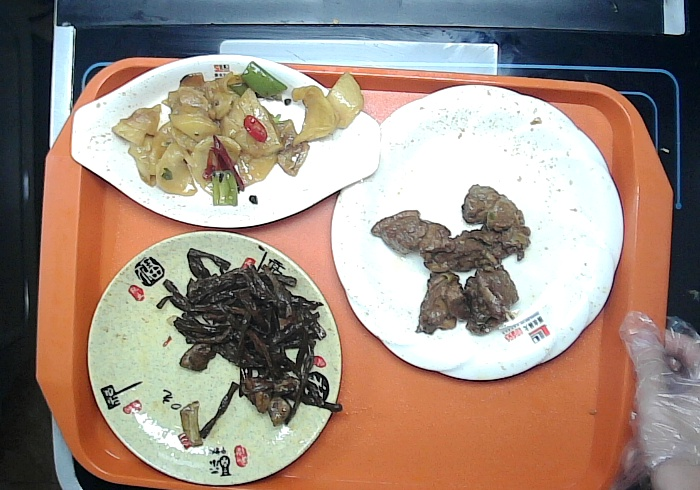NLDX-Bai_Zhe_Yuan_Pan: (324, 82, 630, 384)
NLDX-Fu_Zi_Yuan_Pan: (82, 215, 353, 490)
NLDX-Yu_Pan: (67, 48, 393, 236)
